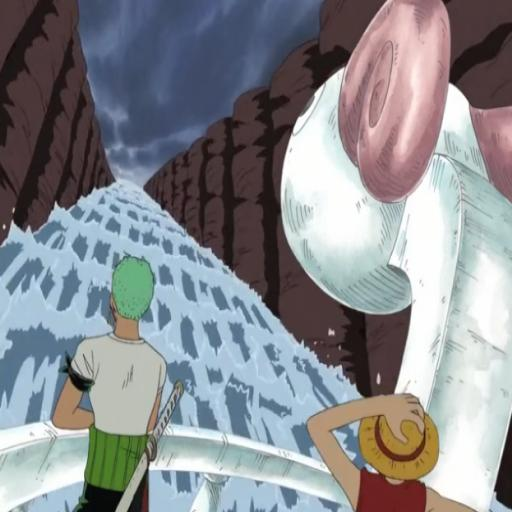Luffy: (302, 388, 488, 503)
Zoro: (55, 249, 187, 512)
